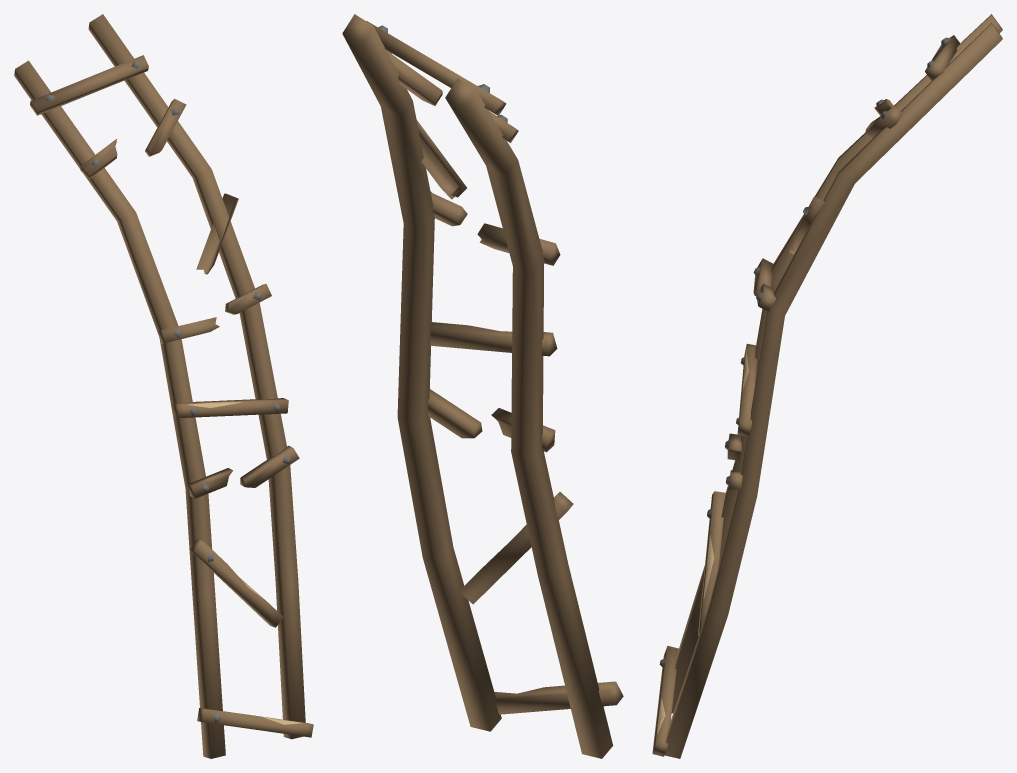
File: rpgpp_av_ladder_tall_01b.gltf
The picture shows the model from 3 angles, left to right: view 1: azimuth 30°, elevation 25°; view 2: azimuth 150°, elevation 25°; view 3: azimuth 270°, elevation 25°; orthographic projection. The views are drawn at different scales.
Visible parts, largest first — view 1: rpgpp_av_ladder_tall_01b; view 2: rpgpp_av_ladder_tall_01b; view 3: rpgpp_av_ladder_tall_01b.
Part boxes in pixels (x1,y1,x2,y2): rpgpp_av_ladder_tall_01b: (14, 14, 313, 758); rpgpp_av_ladder_tall_01b: (342, 14, 623, 758); rpgpp_av_ladder_tall_01b: (652, 14, 1002, 758).
Bounding box in the file's own units: 0.0105 × 0.0374 × 0.0169.
Materials: 1 (1 with a texture image).
